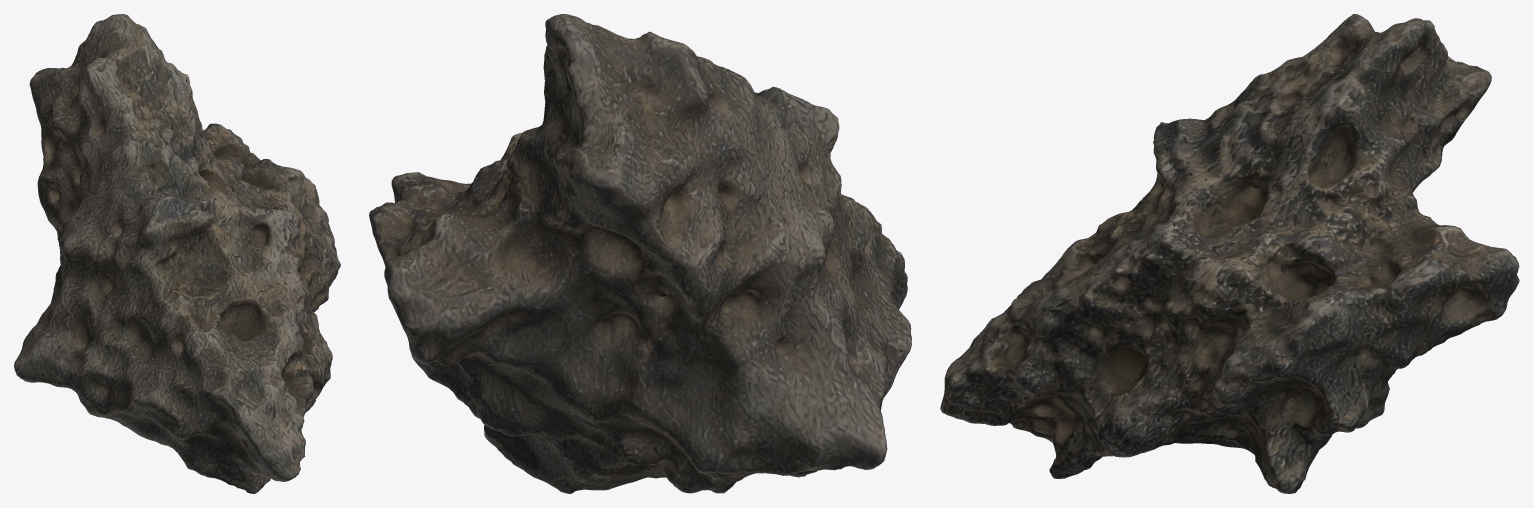
Rendered from asteroid_uncommon_4.glb.
3 views of the same model, side by side, from view 1: azimuth 30°, elevation 25°; view 2: azimuth 150°, elevation 25°; view 3: azimuth 270°, elevation 25° (orthographic). The views are drawn at different scales.
Visible parts, largest first — view 1: model; view 2: model; view 3: model.
Boxes of the visible parts, x1,y1,x2,y2 form: model: (14,14,340,493); model: (369,14,911,493); model: (940,14,1519,493).
Size of the model in its own units: 1.46 by 1.67 by 1.89.
Materials: 1 (1 with a texture image).
